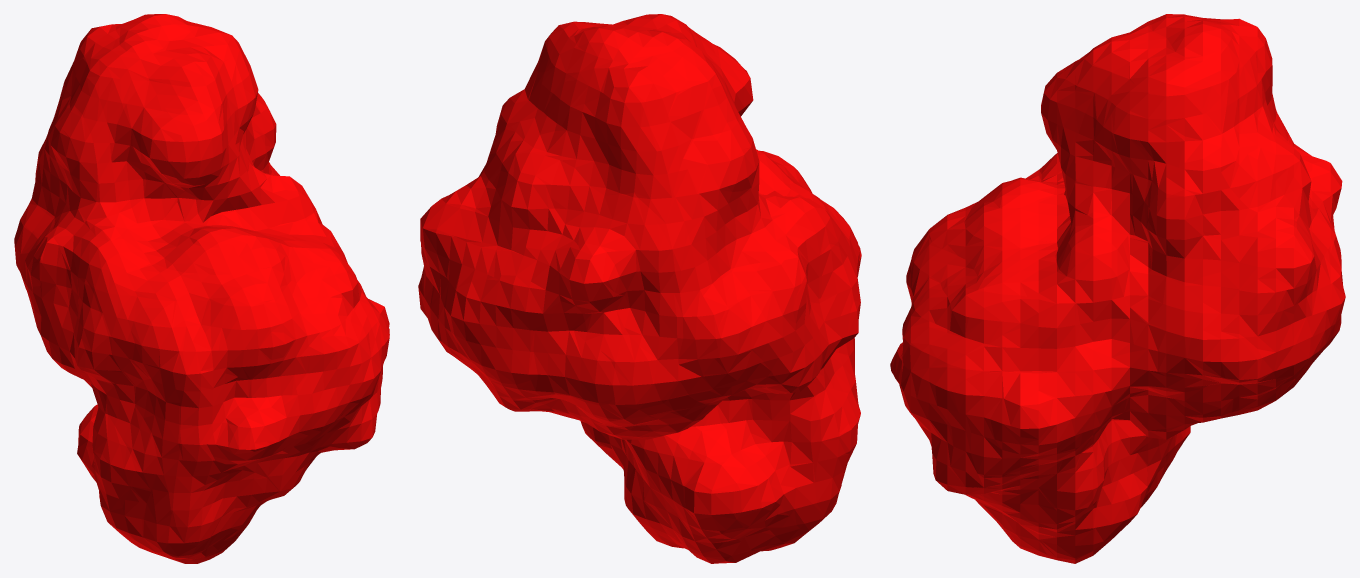
The model's file is ybdL_coarse.dae.
The picture shows the model from 3 angles, left to right: view 1: azimuth 30°, elevation 25°; view 2: azimuth 150°, elevation 25°; view 3: azimuth 270°, elevation 25°; orthographic projection. The views are drawn at different scales.
Parts seen in each view (by area): view 1: ybdL; view 2: ybdL; view 3: ybdL.
Boxes of the visible parts, x1,y1,x2,y2 form: ybdL: [14, 14, 389, 563]; ybdL: [418, 14, 861, 563]; ybdL: [890, 14, 1345, 563].
Bounding box in the file's own units: 60.48 × 94.08 × 71.97.
